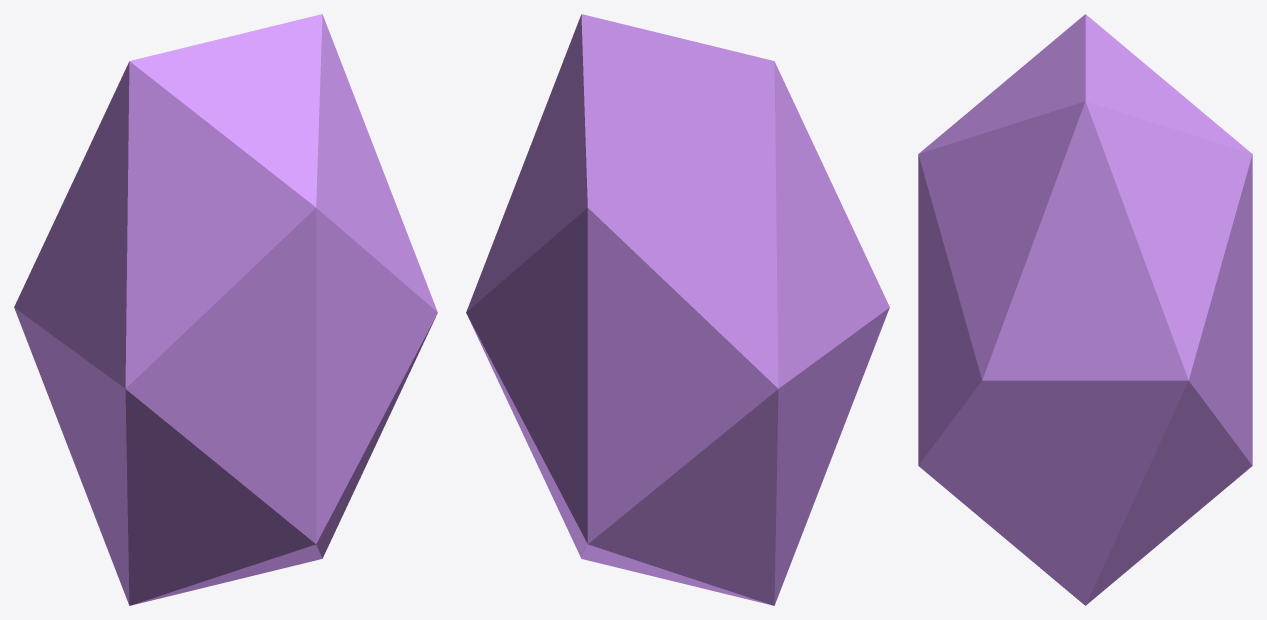
File: crystal_gem.glb
3 renders of one model, left to right at view 1: azimuth 30°, elevation 25°; view 2: azimuth 150°, elevation 25°; view 3: azimuth 270°, elevation 25°, orthographic. The views are drawn at different scales.
Size of the model in its own units: 1.53 by 2.55 by 1.53.
